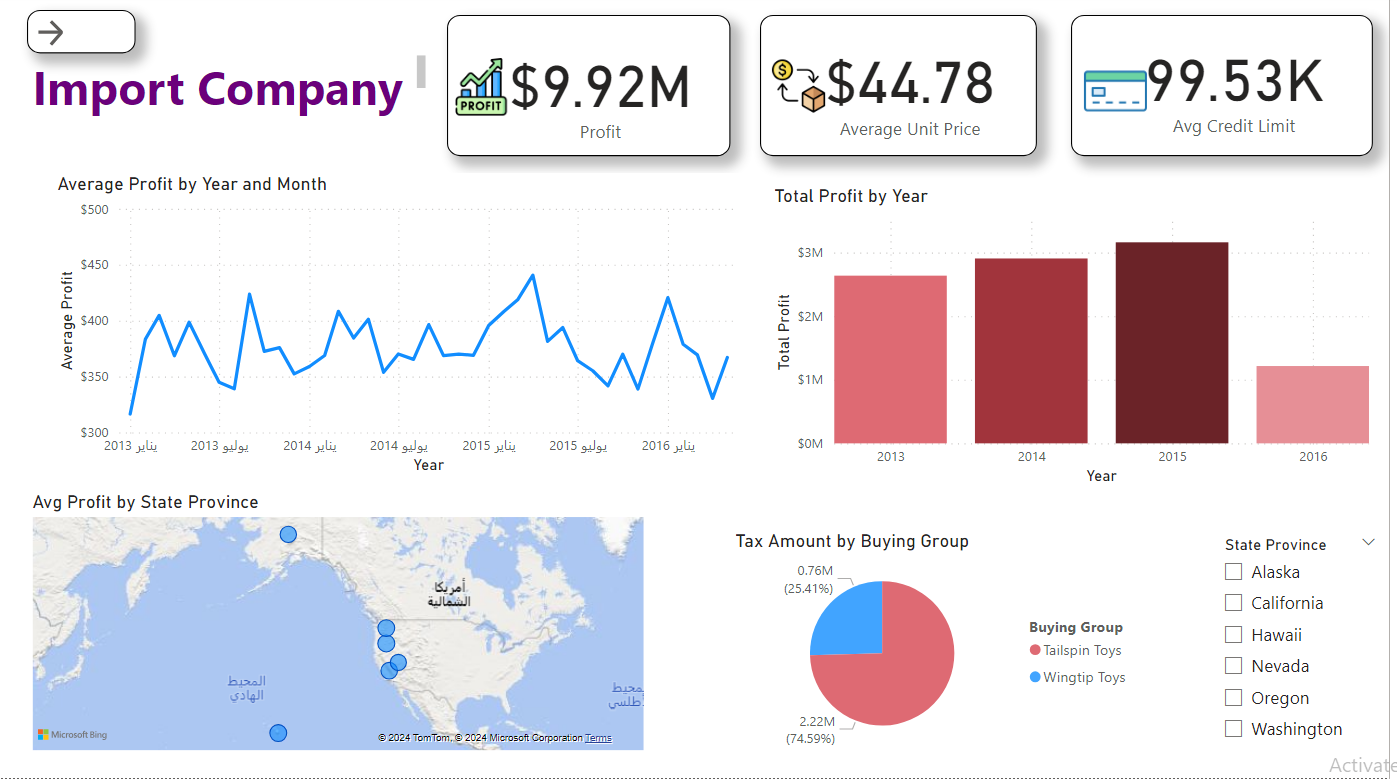

The dashboard page shown, as its layout file describes it:
{"tool":"powerbi","page":{"name":"Overview","canvas":[1280,720],"ordinal":0},"visuals":[{"type":"textbox","box":[26.2,50,372.3,71.4],"z":0},{"type":"card","fields":{"Values":["Sum(FactSale.Profit)"]},"box":[412.8,17.8,260.5,129.7],"z":1000},{"type":"image","box":[412.8,45.2,63,76.1],"z":2000},{"type":"card","fields":{"Values":["Avg(FactSale.Unit Price)"]},"box":[700.7,17.8,254.6,129.7],"z":3000},{"type":"image","box":[700.7,53.5,71.4,59.5],"z":4000},{"type":"card","fields":{"Values":["Avg(DimCustomer.Credit Limit)"]},"box":[987.4,17.8,278.4,129.7],"z":5000},{"type":"image","box":[987.8,53.5,79.2,67.9],"z":6000},{"type":"lineChart","fields":{"Y":["Avg(FactSale.Profit)"],"Category":["DimDate.Date.Variation.Date Hierarchy.Year","DimDate.Date.Variation.Date Hierarchy.Month"]},"box":[48.8,163,651.9,281.9],"z":7000},{"type":"lineClusteredColumnComboChart","fields":{"Category":["DimDate.Date.Variation.Date Hierarchy.Year"],"Y":["Sum(FactSale.Profit)"]},"box":[708.9,173.9,557.7,280.9],"z":8000},{"type":"map","fields":{"Size":["Avg(FactSale.Profit)"],"Category":["DimCity.State Province"]},"box":[26.2,455.6,573.4,243.9],"z":9000},{"type":"slicer","fields":{"Values":["DimCity.State Province"]},"box":[1115.8,491.3,164.2,227.2],"z":10000},{"type":"pieChart","title":" Tax Amount by Buying Group","fields":{"Category":["DimCustomer.Buying Group"],"Y":["Sum(FactSale.Tax Amount)"]},"box":[673.3,491.3,384.2,208.2],"z":11000},{"type":"actionButton","box":[26.2,13.1,99.9,40.4],"z":12000}]}

Visuals, with their boxes in screenshot pixels (x1, y1, x2, y2), scaled from the page's 1280x720 canvas onto the 1397x779 screenshot:
textbox: <box>29,54,435,131</box>
card - Sum(FactSale.Profit): <box>451,19,735,160</box>
image: <box>451,49,519,131</box>
card - Avg(FactSale.Unit Price): <box>765,19,1043,160</box>
image: <box>765,58,843,122</box>
card - Avg(DimCustomer.Credit Limit): <box>1078,19,1382,160</box>
image: <box>1078,58,1165,131</box>
lineChart - Avg(FactSale.Profit) x DimDate.Date.Variation.Date Hierarchy.Year: <box>53,176,765,481</box>
lineClusteredColumnComboChart - DimDate.Date.Variation.Date Hierarchy.Year x Sum(FactSale.Profit): <box>774,188,1382,492</box>
map - Avg(FactSale.Profit) x DimCity.State Province: <box>29,493,654,757</box>
slicer - DimCity.State Province: <box>1218,532,1396,777</box>
" Tax Amount by Buying Group" pieChart: <box>735,532,1154,757</box>
actionButton: <box>29,14,138,58</box>
